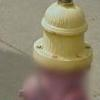Hydrant: (24, 0, 100, 100)
